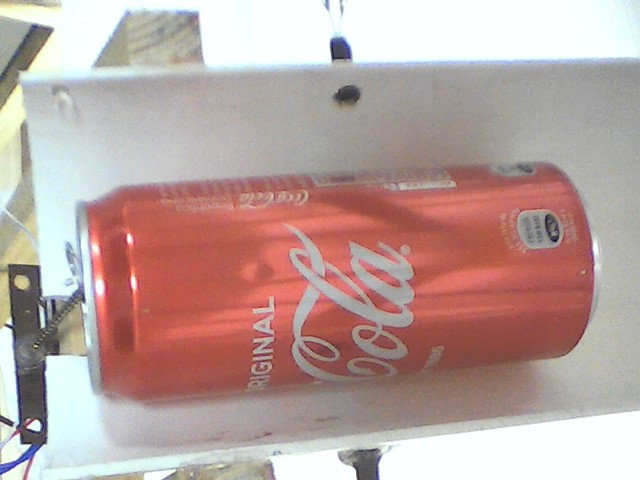lata: (62, 157, 610, 402)
